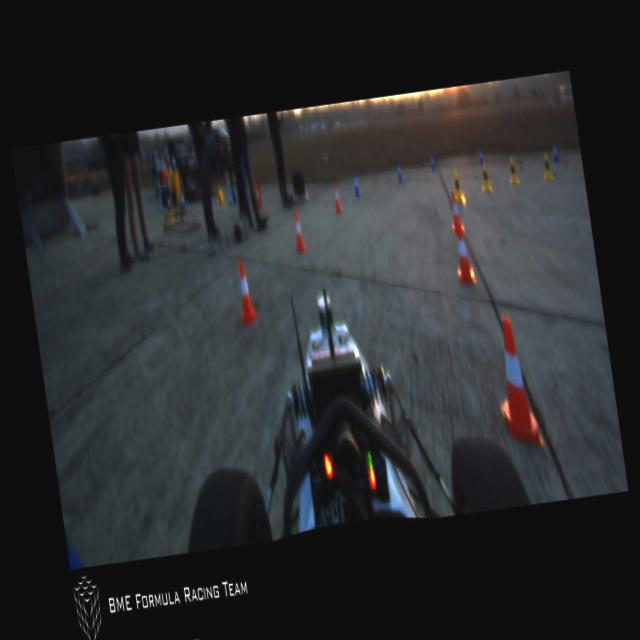blue_cone: (352, 170, 361, 197), (227, 188, 237, 206), (551, 140, 559, 162), (396, 160, 403, 182), (170, 154, 178, 173), (180, 191, 187, 211), (477, 146, 484, 166), (429, 153, 436, 172)
orange_cone: (490, 312, 544, 448), (232, 257, 259, 326), (452, 220, 476, 284), (448, 190, 464, 232), (291, 210, 306, 252), (332, 179, 342, 214)
yellow_cone: (479, 163, 493, 193), (452, 170, 464, 202), (542, 153, 554, 181), (507, 156, 519, 184), (166, 198, 174, 220), (216, 189, 224, 205), (166, 156, 173, 174)
